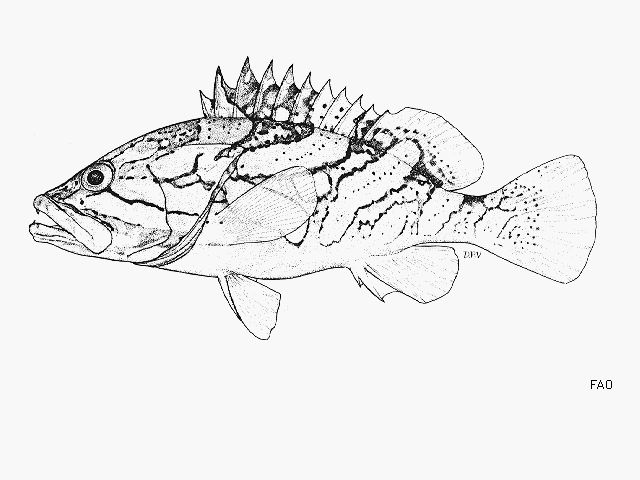fish: (28, 55, 597, 341)
